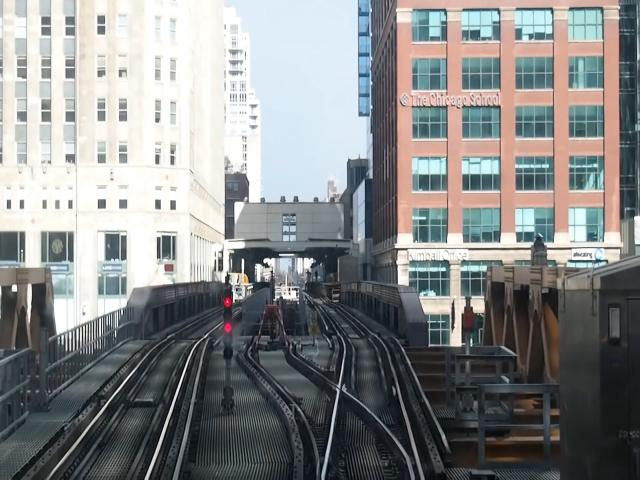signal light: (222, 286, 235, 364)
